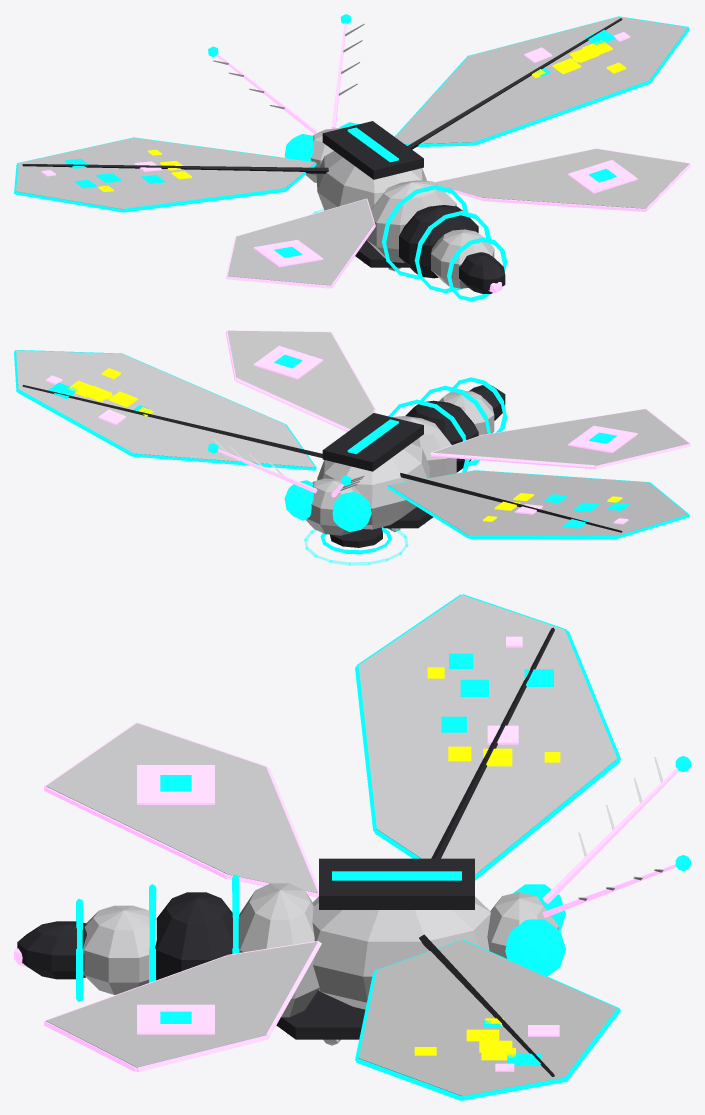
Rendered from MothMothership.fbx.
3 views of the same model, one above another, from view 1: azimuth 30°, elevation 25°; view 2: azimuth 150°, elevation 25°; view 3: azimuth 270°, elevation 25° (orthographic). The views are drawn at different scales.
Parts seen in each view (by area): view 1: MothMothership_WingFL, MothMothership_WingFR, MothMothership_WingRL, MothMothership_WingRR, MothM_ThoraxPlate, MothM_Thorax, MothM_Abd0, MothM_Abd1, MothM_Abd2, MothM_Abd3, MothM_SparR, MothM_EyeSpotL (+14 smaller); view 2: MothMothership_WingFL, MothMothership_WingFR, MothMothership_WingRL, MothMothership_WingRR, MothM_Thorax, MothM_ThoraxPlate, MothM_Abd1, MothM_Head, MothM_Abd0, MothM_Eye-1, MothM_SparL, MothM_EyeSpotL (+19 smaller); view 3: MothMothership_WingFR, MothMothership_WingFL, MothMothership_WingRR, MothMothership_WingRL, MothM_Thorax, MothM_ThoraxPlate, MothM_Abd1, MothM_Abd0, MothM_Abd2, MothM_Abd3, MothM_BayFrame, MothM_EyeSpotR (+11 smaller).
Boxes of the visible parts, x1=… form: MothMothership_WingFL: x1=395, y1=17, x2=687, y2=144; MothMothership_WingFR: x1=16, y1=137, x2=314, y2=209; MothMothership_WingRL: x1=435, y1=148, x2=689, y2=208; MothMothership_WingRR: x1=227, y1=199, x2=374, y2=285; MothM_ThoraxPlate: x1=322, y1=121, x2=423, y2=179; MothM_Thorax: x1=316, y1=151, x2=426, y2=210; MothM_Abd0: x1=366, y1=180, x2=456, y2=262; MothM_Abd1: x1=399, y1=205, x2=478, y2=278; MothM_Abd2: x1=431, y1=229, x2=494, y2=288; MothM_Abd3: x1=459, y1=252, x2=505, y2=293; MothM_SparR: x1=22, y1=164, x2=328, y2=173; MothM_EyeSpotL: x1=568, y1=160, x2=637, y2=193; MothMothership_WingFL: x1=16, y1=350, x2=315, y2=467; MothMothership_WingFR: x1=389, y1=470, x2=687, y2=535; MothMothership_WingRL: x1=227, y1=330, x2=374, y2=429; MothMothership_WingRR: x1=433, y1=409, x2=688, y2=465; MothM_Thorax: x1=317, y1=443, x2=429, y2=529; MothM_ThoraxPlate: x1=322, y1=413, x2=423, y2=471; MothM_Abd1: x1=405, y1=400, x2=478, y2=472; MothM_Head: x1=306, y1=478, x2=361, y2=535; MothM_Abd0: x1=392, y1=416, x2=456, y2=477; MothM_Eye-1: x1=332, y1=491, x2=371, y2=531; MothM_SparL: x1=22, y1=385, x2=322, y2=457; MothM_EyeSpotL: x1=253, y1=345, x2=323, y2=379; MothMothership_WingFR: x1=358, y1=595, x2=617, y2=874; MothMothership_WingFL: x1=358, y1=940, x2=617, y2=1100; MothMothership_WingRR: x1=46, y1=723, x2=317, y2=892; MothMothership_WingRL: x1=46, y1=941, x2=317, y2=1067; MothM_Thorax: x1=312, y1=896, x2=490, y2=1009; MothM_ThoraxPlate: x1=319, y1=858, x2=474, y2=909; MothM_Abd1: x1=155, y1=892, x2=232, y2=980; MothM_Abd0: x1=238, y1=883, x2=319, y2=1017; MothM_Abd2: x1=82, y1=905, x2=156, y2=994; MothM_Abd3: x1=17, y1=921, x2=86, y2=979; MothM_BayFrame: x1=276, y1=990, x2=365, y2=1039; MothM_EyeSpotR: x1=137, y1=765, x2=214, y2=804.
Bounding box in the file's own units: 4.58 × 0.94 × 2.6.
